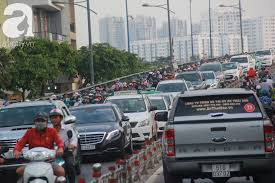Bien-so: (212, 163, 230, 178), (81, 145, 95, 151)
